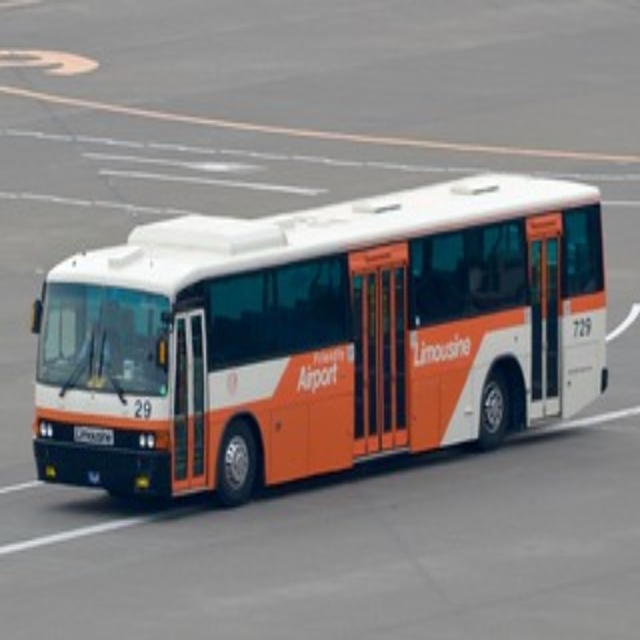Bus: (32, 171, 608, 511)
